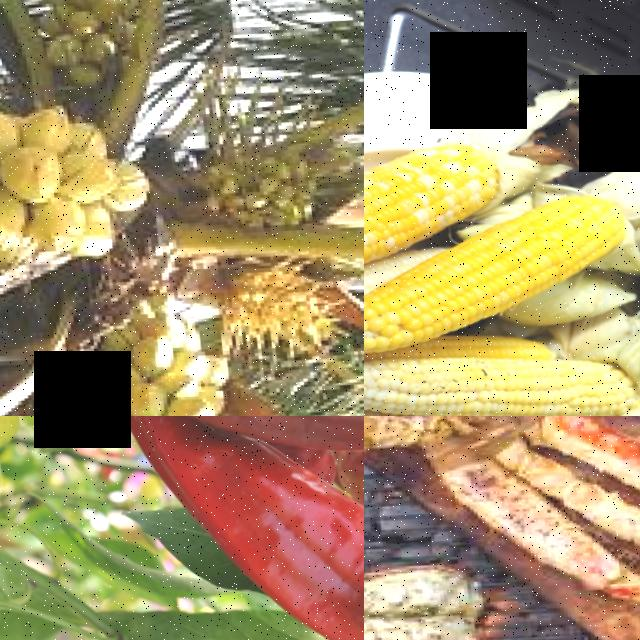chilli: (172, 416, 364, 640), (0, 416, 364, 490)
coconuts: (0, 78, 132, 274), (63, 320, 238, 416)
corn: (364, 228, 526, 357), (477, 174, 640, 296), (364, 132, 508, 249), (458, 337, 640, 416), (364, 344, 470, 416)
crab: (449, 416, 640, 640)
